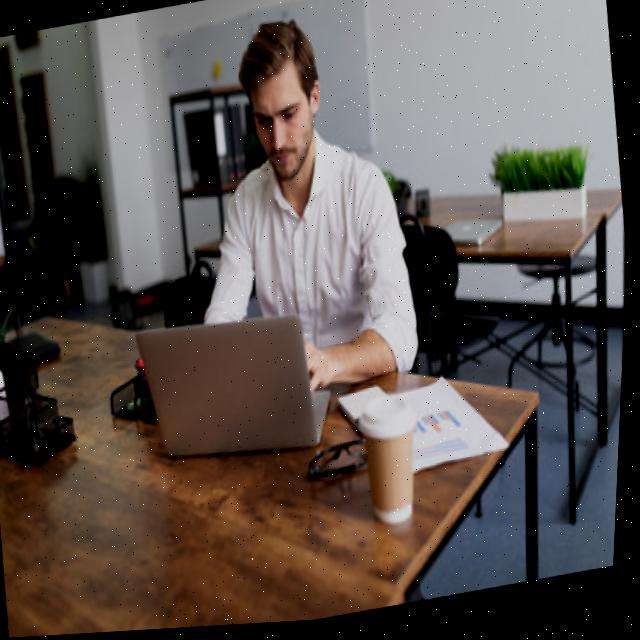notebook-person: (92, 0, 455, 495)
